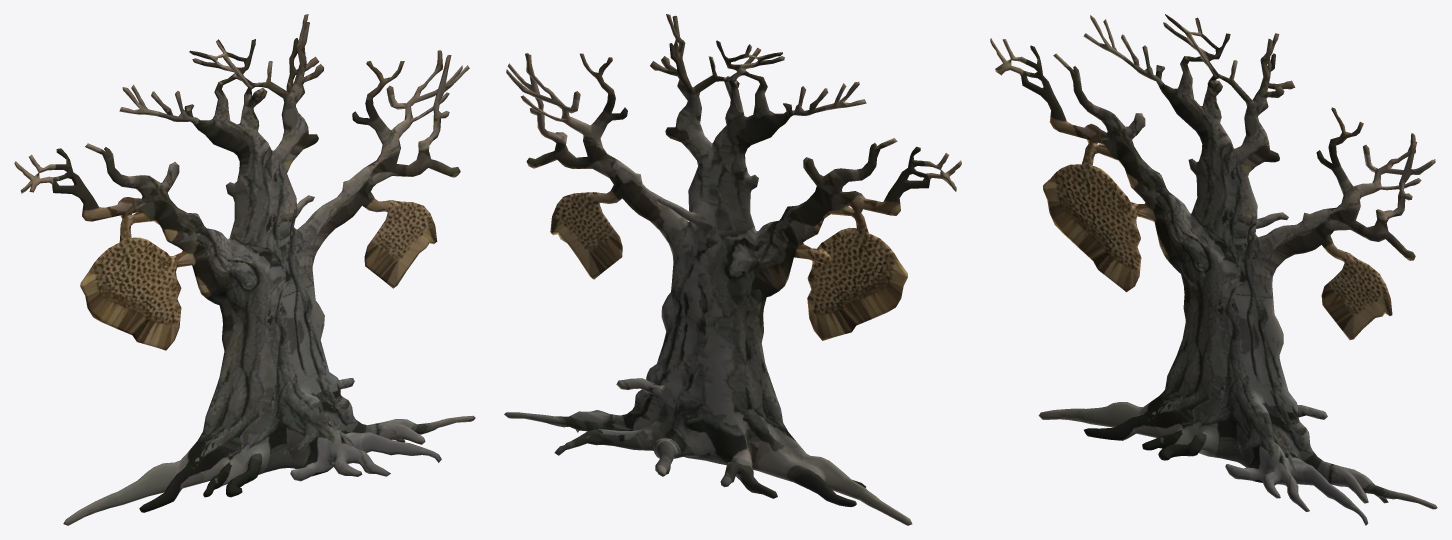
Rendered from toad-prop3d-dry-tree.glb.
3 views of the same model, side by side, from view 1: azimuth 30°, elevation 25°; view 2: azimuth 150°, elevation 25°; view 3: azimuth 330°, elevation 25° (orthographic). The views are drawn at different scales.
Visible parts, largest first — view 1: world; view 2: world; view 3: world.
Boxes of the visible parts, <box> form: world: <box>14,14,475,525</box>; world: <box>504,14,961,525</box>; world: <box>990,14,1437,525</box>.
Size of the model in its own units: 0.48 by 0.46 by 0.08.
1 material, 1 textured.
